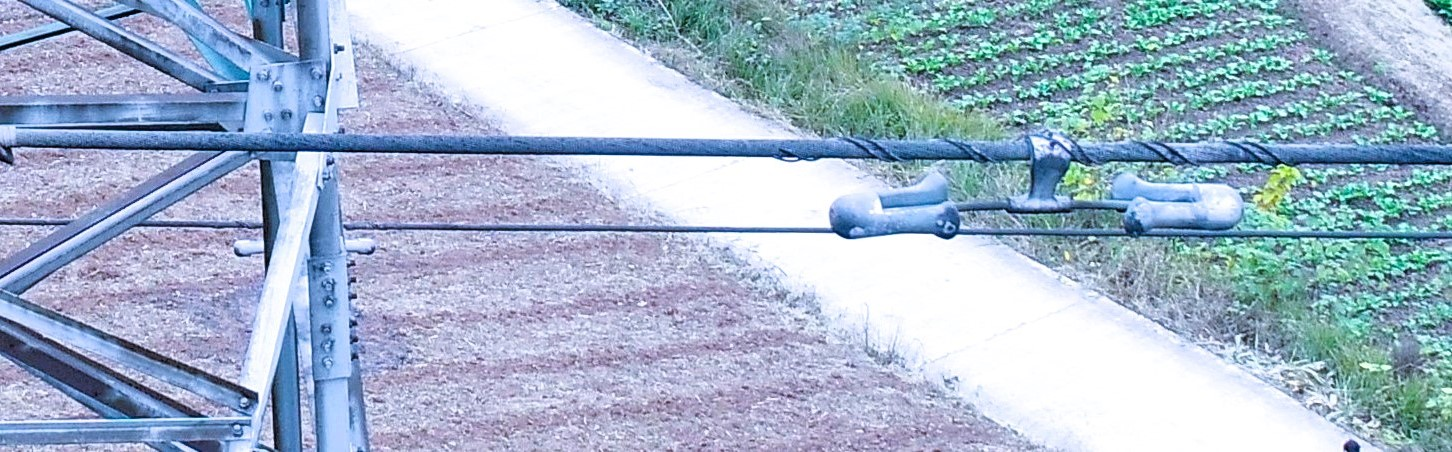Shockproof hammer: (809, 112, 1268, 248)
